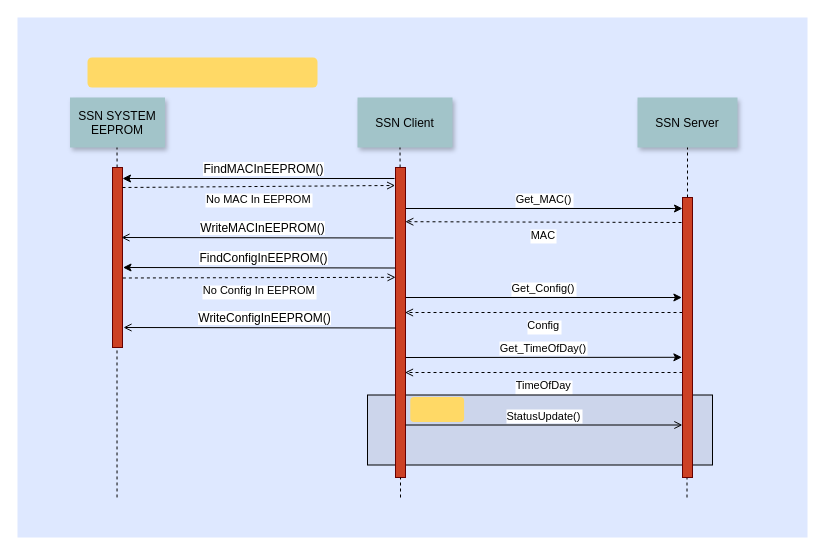
This 824x554 diagram has some shape labels left out. The shapes that lost their labels are listed below. From the top down, each one's centre as x and y in pixels, then its label:
At point (202, 72): "No MAC - No Config To Status Update".
At point (437, 408): "loop".
